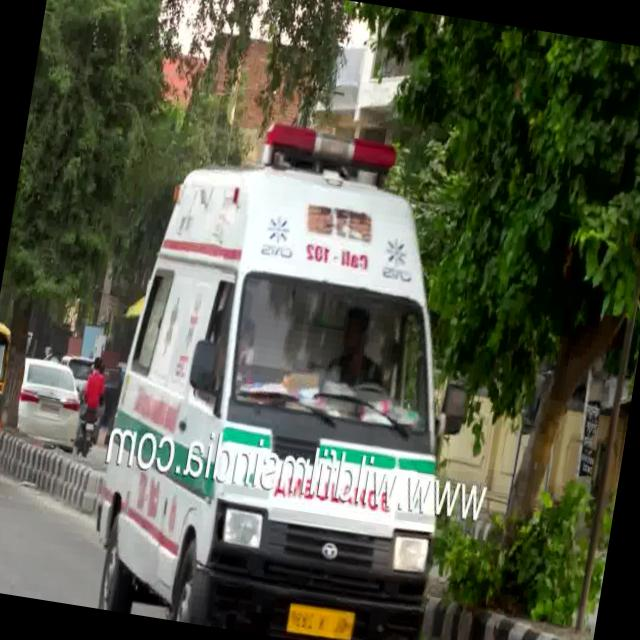ambulance: (99, 94, 474, 470)
